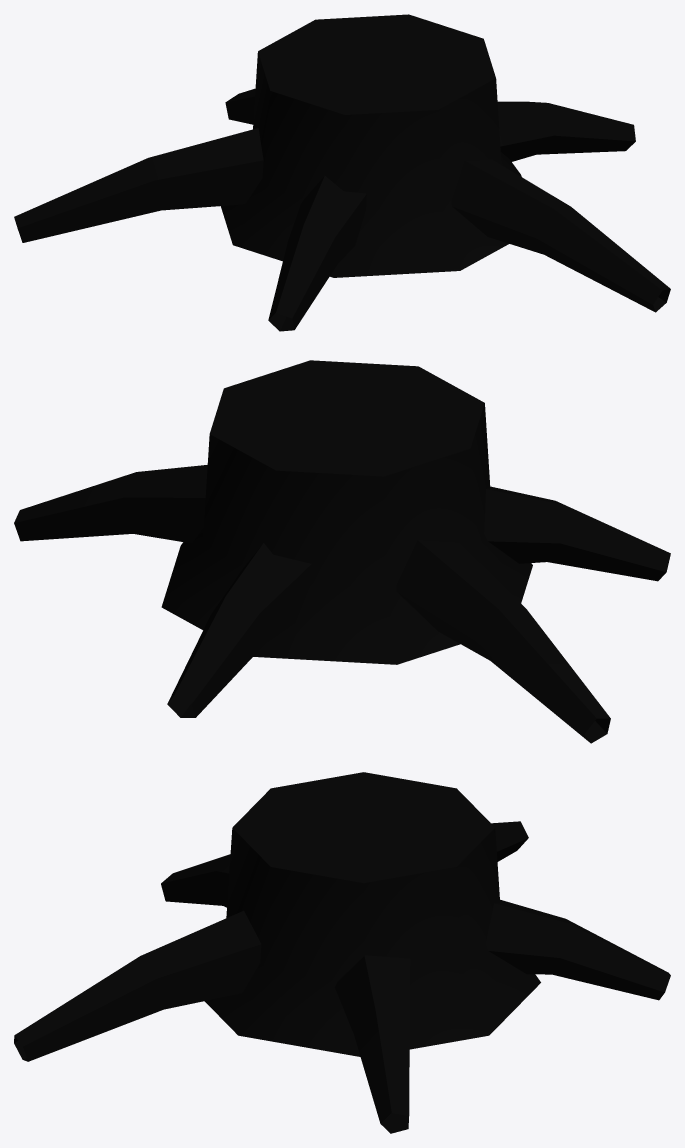
Rendered from SM_stump_large.fbx.
3 views of the same model, one above another, from view 1: azimuth 30°, elevation 25°; view 2: azimuth 150°, elevation 25°; view 3: azimuth 270°, elevation 25° (orthographic). The views are drawn at different scales.
Parts seen in each view (by area): view 1: stump_large; view 2: stump_large; view 3: stump_large.
Boxes of the visible parts, x1,y1,x2,y2 form: stump_large: (14, 14, 670, 331); stump_large: (14, 360, 670, 743); stump_large: (14, 772, 670, 1133).
Size of the model in its own units: 2.64 by 0.7146 by 2.5.
